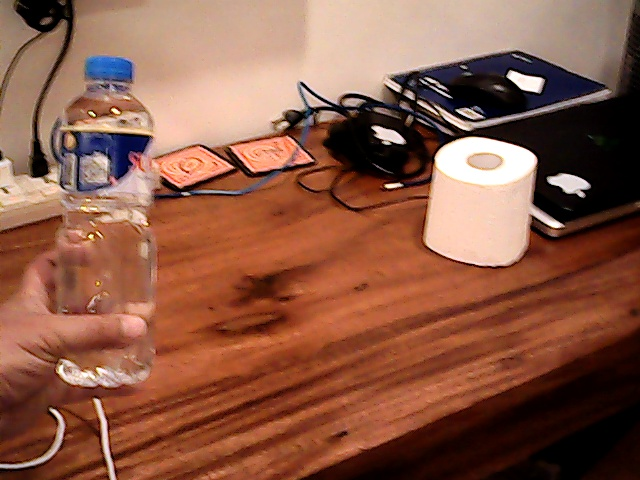Summit Water: (50, 54, 163, 375)
